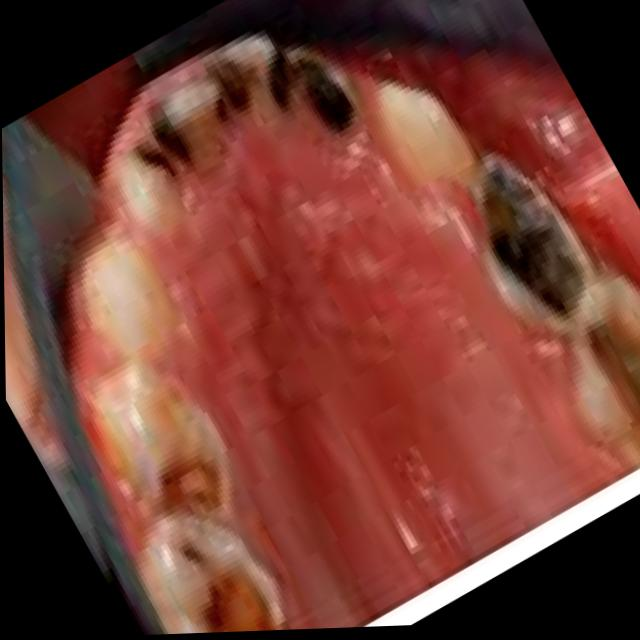cariess: (133, 413, 283, 634), (132, 34, 351, 171), (479, 156, 588, 312)
